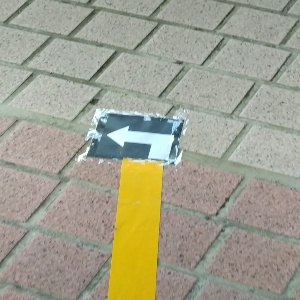left: (85, 112, 183, 163)
